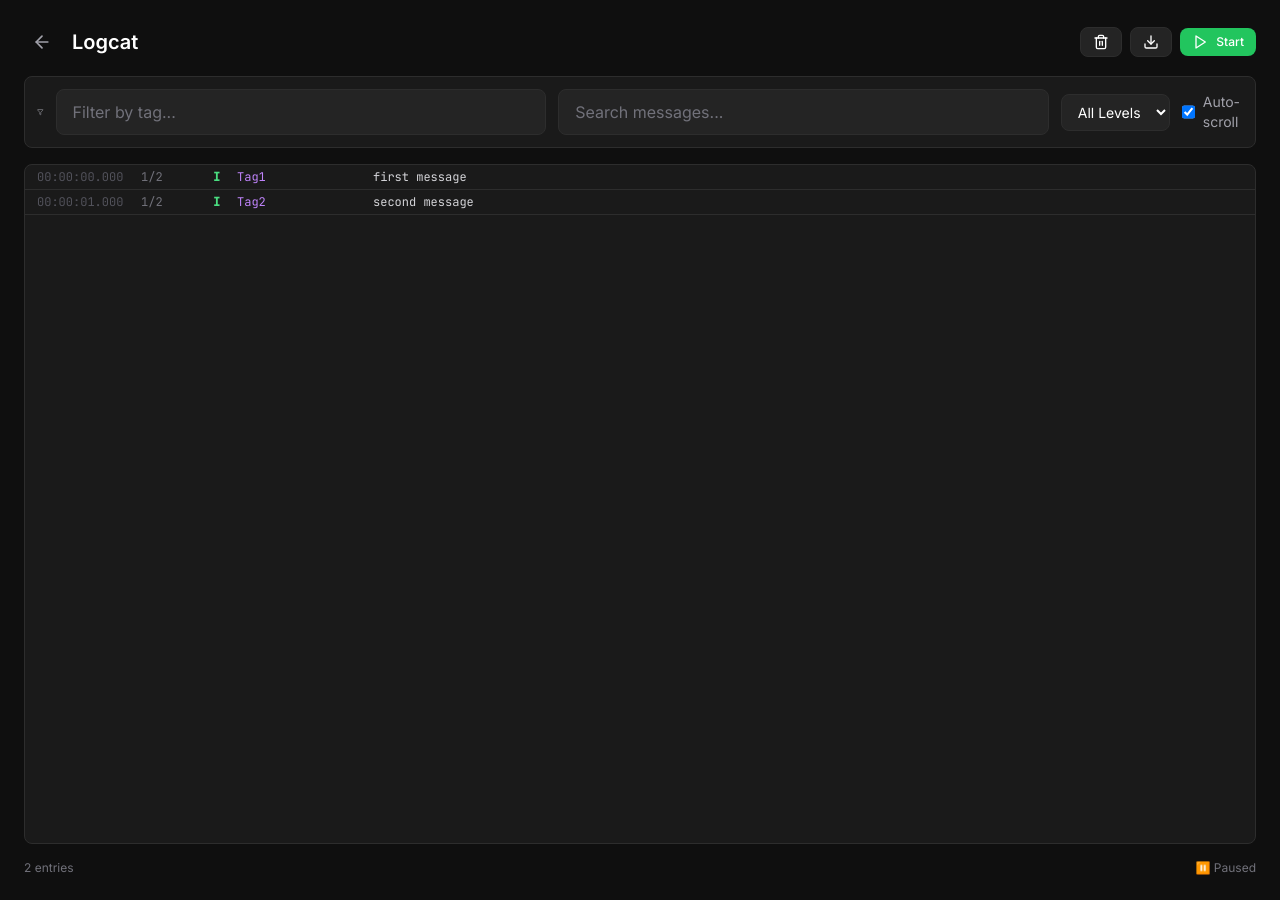
Test: LogcatPage › filters by search message
Expected: the text "first message" is shown, [373, 169, 467, 185]
In the field with placeholder "Search messages...": (804, 112) [558, 89, 1049, 135], type "second"
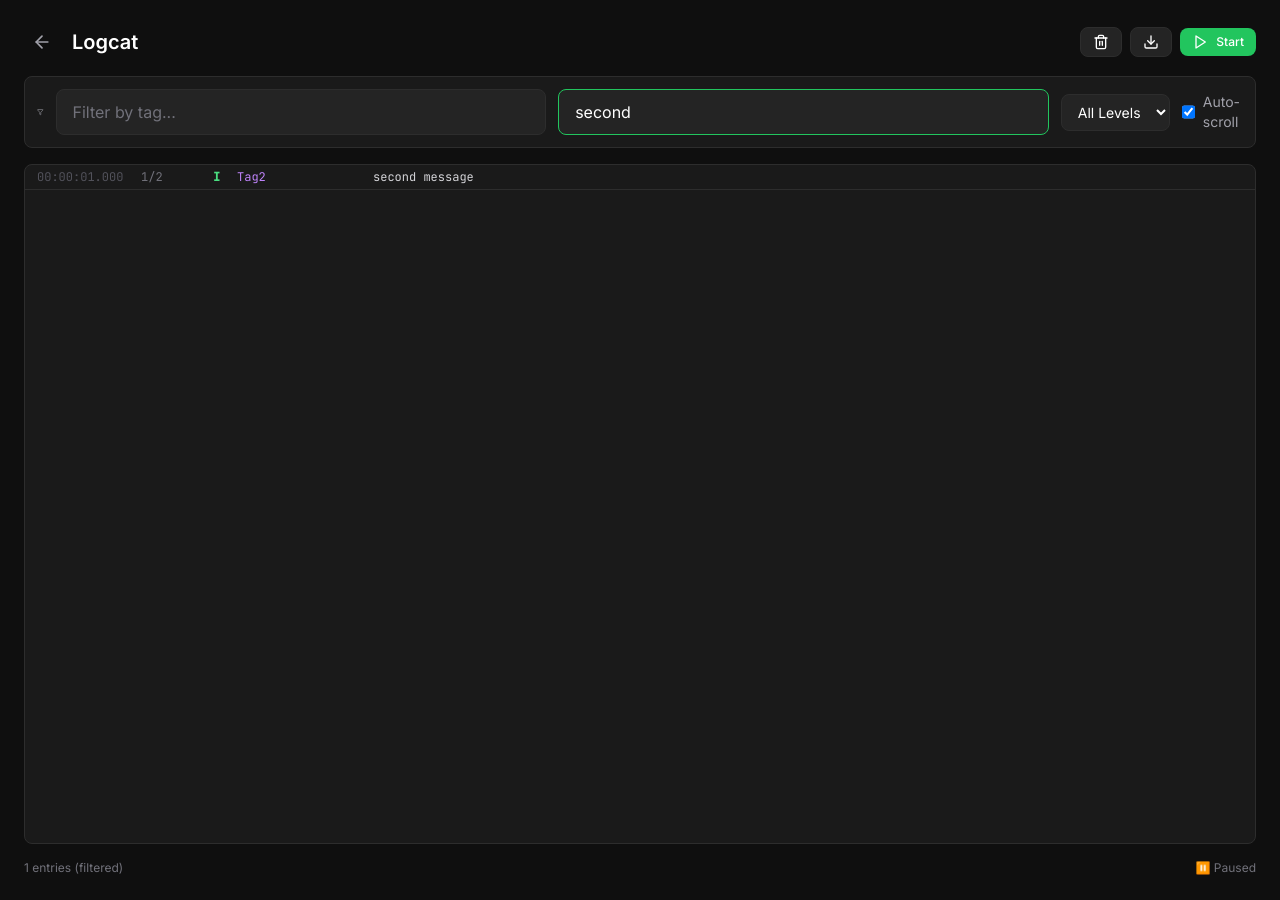
Expected: the text "first message" is gone
Expected: the text "second message" is shown, [373, 169, 474, 185]
